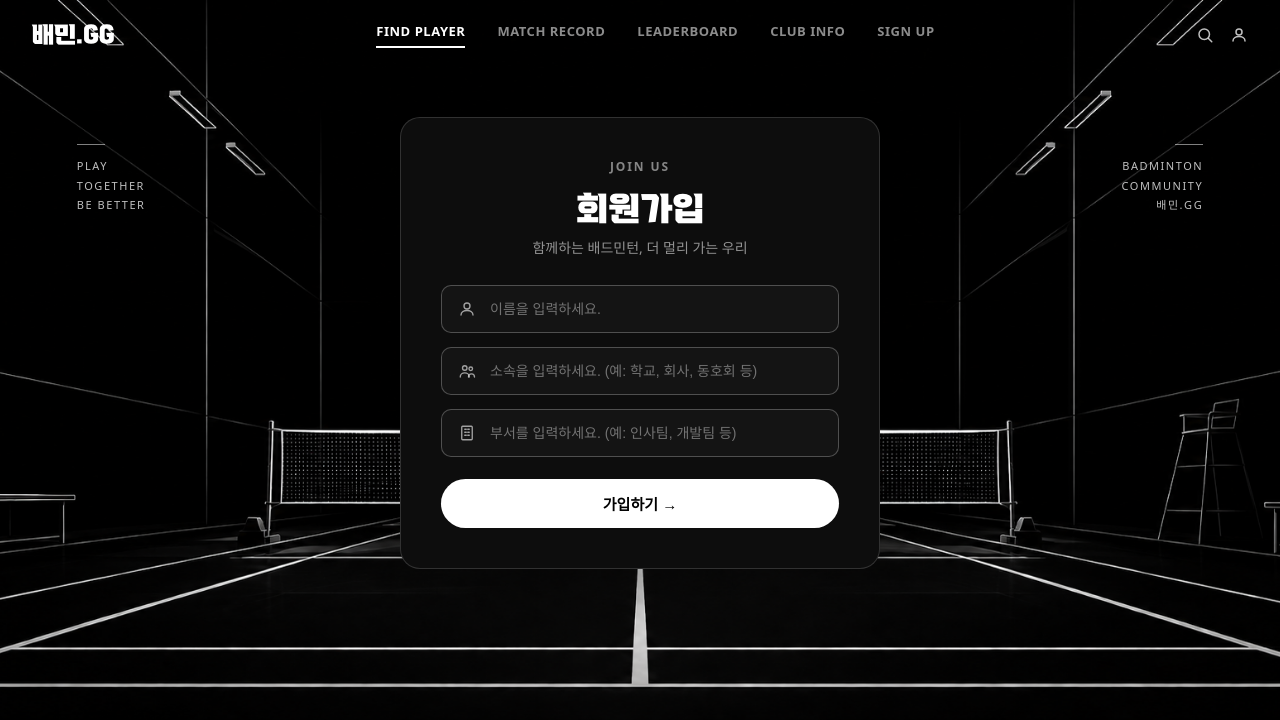
submitting the form appends a new member and shows a success message
Type "김태준" into the field labelled "이름" at (655, 309), box [488,300,822,318]
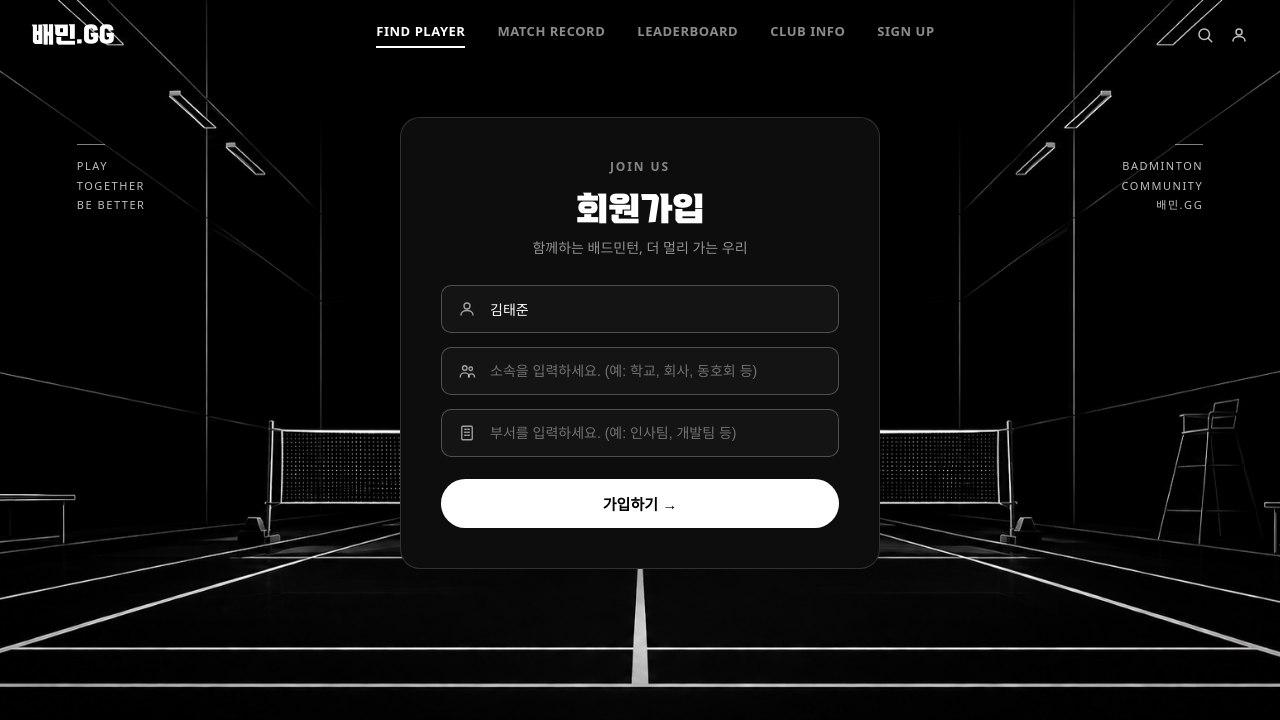
Type "개발" into the field labelled "소속" at (655, 371), box [488,362,822,380]
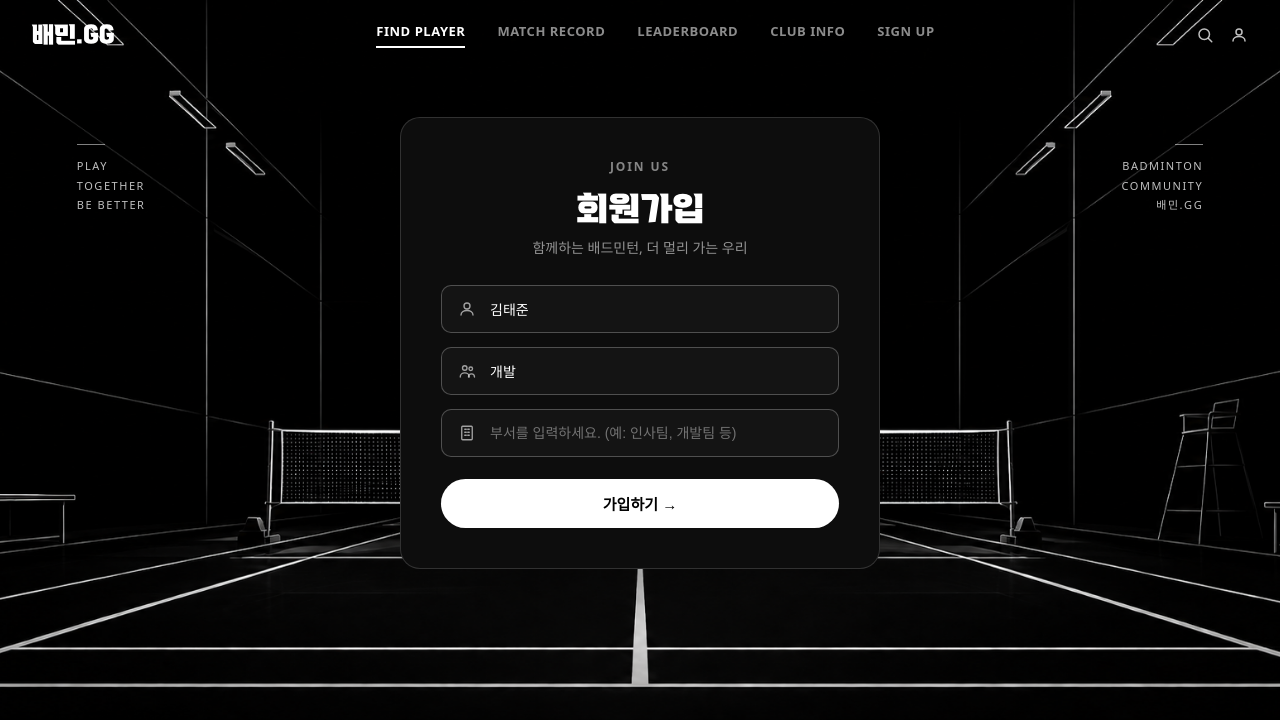
Type "사원" into the field labelled "부서" at (655, 433), box [488,424,822,442]
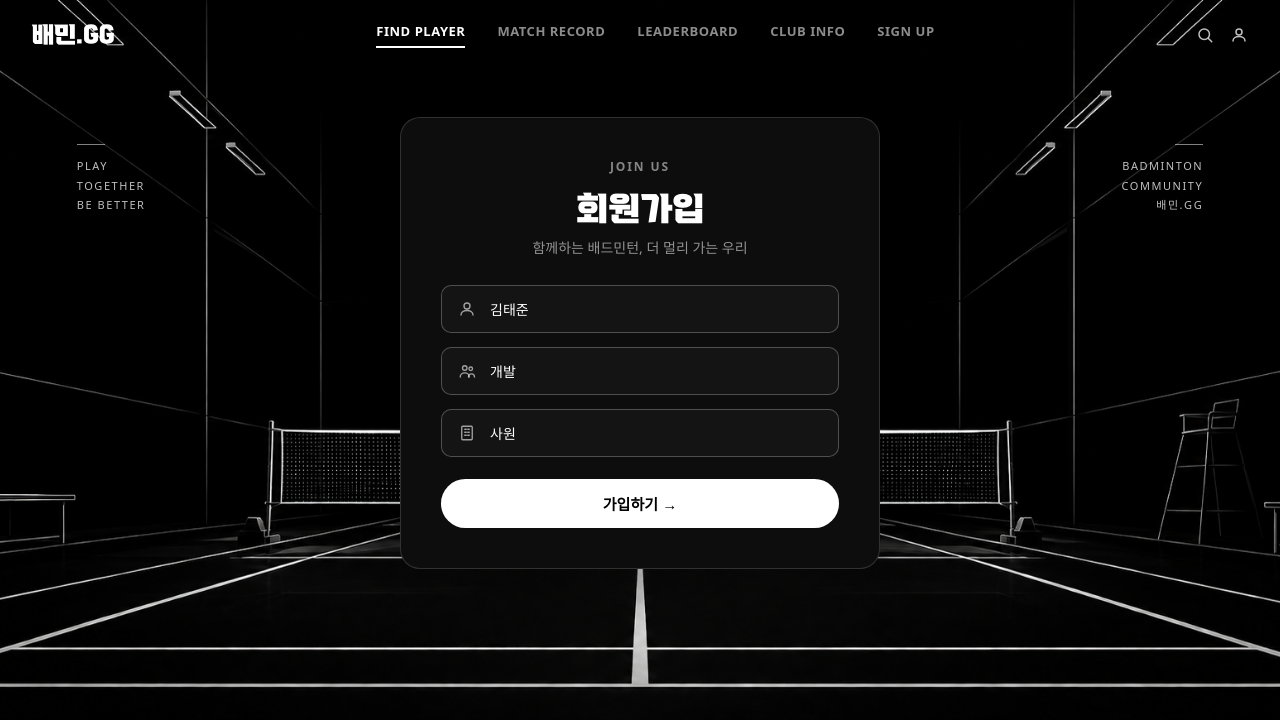
Click the button "가입하기 →" at (640, 504), box [441,479,839,528]
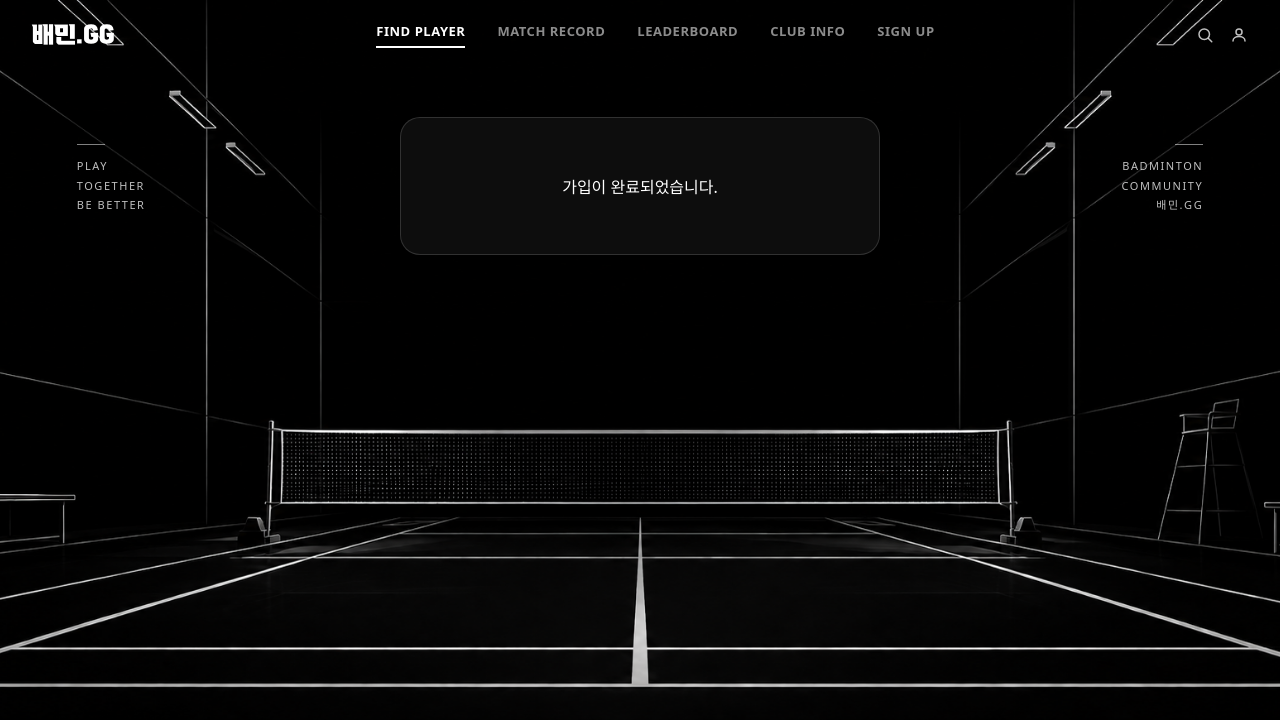
Result: the text "가입이 완료되었습니다." is shown at [562,176,718,198]
